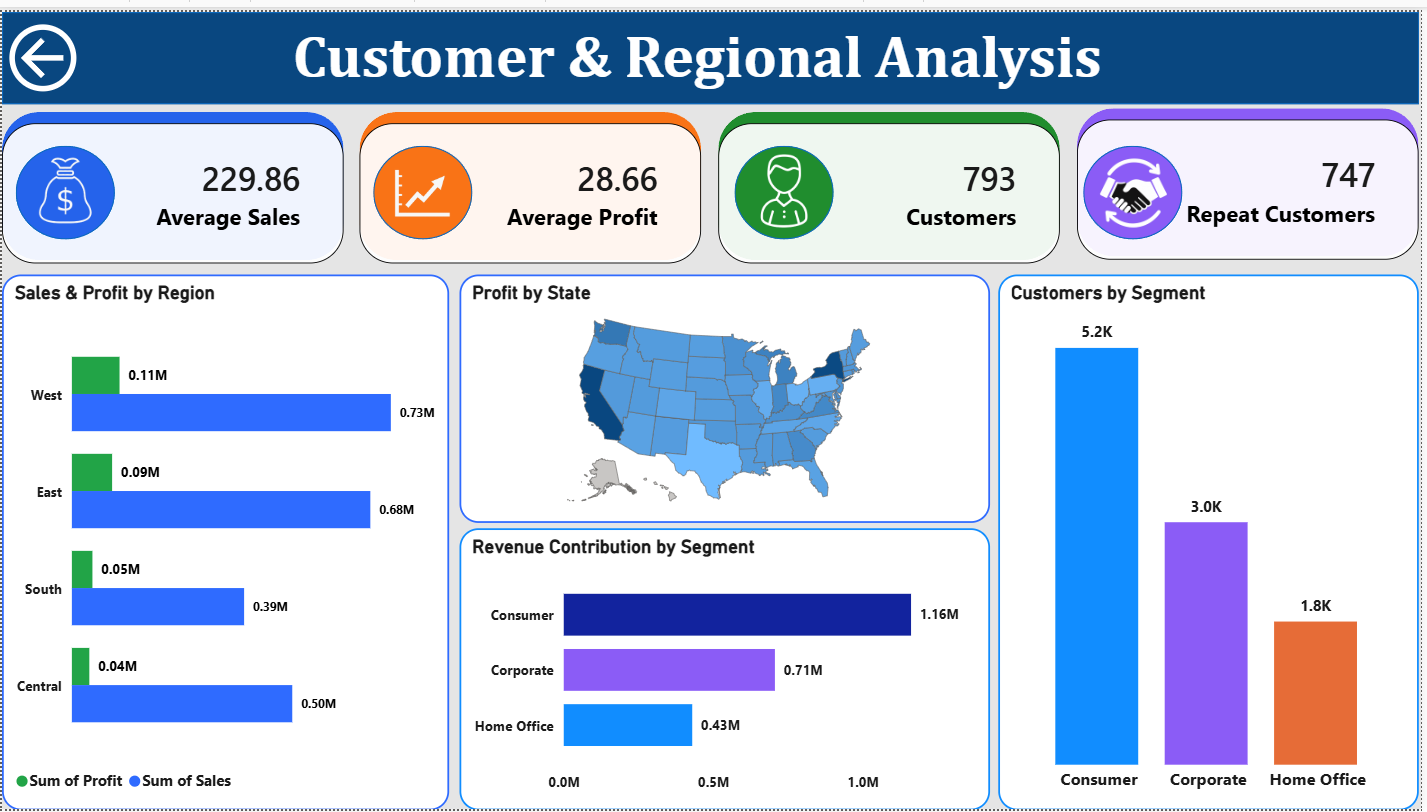

The page's visual inventory and layout, read from the dashboard file:
{"tool":"powerbi","page":{"name":"Customer & Regional Analysis","canvas":[1280,720],"ordinal":1},"visuals":[{"type":"shape","title":"Customer & Regional Analysis","box":[0,0,1277.9,83.2],"z":0},{"type":"shape","box":[969.8,86.8,308,133.6],"z":0,"group":"g2"},{"type":"group","id":"g1","title":"card1","box":[0,89.7,308,136.5],"z":0,"group":"g5"},{"type":"shape","box":[0,89.7,308,133.6],"z":0,"group":"g1"},{"type":"shape","box":[322.1,89.7,308,133.6],"z":0,"group":"g3"},{"type":"shape","box":[646,89.7,308,133.6],"z":0,"group":"g4"},{"type":"shape","box":[12.4,120.4,89.4,84.4],"z":0,"group":"g6"},{"type":"group","id":"g2","title":"card2","box":[969.8,86.8,308,136.5],"z":1000,"group":"g5"},{"type":"cardVisual","fields":{"Data":["_measure.Repeat Customers"]},"box":[969.8,97,308,126.3],"z":1000,"group":"g2"},{"type":"cardVisual","fields":{"Data":["Avg(Orders.Sales)"]},"box":[0,99.9,308,126.3],"z":1000,"group":"g1"},{"type":"cardVisual","fields":{"Data":["Avg(Orders.Profit)"]},"box":[322.1,99.9,308,126.3],"z":1000,"group":"g3"},{"type":"cardVisual","fields":{"Data":["_measure.Total Customers"]},"box":[646,99.9,308,126.3],"z":1000,"group":"g4"},{"type":"shape","box":[333.9,120.4,89.4,84.4],"z":1000,"group":"g6"},{"type":"shapeMap","title":"Profit by State","fields":{"Category":["Orders.State"],"Value":["Sum(Orders.Profit)"]},"box":[412.1,237.2,478.1,223.8],"z":1000},{"type":"group","id":"g3","title":"card3","box":[322.1,89.7,308,136.5],"z":2000,"group":"g5"},{"type":"shape","box":[660.3,120.4,89.4,84.4],"z":2000,"group":"g6"},{"type":"clusteredBarChart","title":"Sales & Profit by Region","fields":{"Category":["Orders.Region"],"Y":["Sum(Orders.Profit)","Sum(Orders.Sales)"]},"box":[0,237.2,403.5,483],"z":2000},{"type":"group","id":"g4","title":"card5","box":[646,89.7,308,136.5],"z":3000,"group":"g5"},{"type":"shape","box":[974.4,120.4,89.4,84.4],"z":3000,"group":"g6"},{"type":"clusteredColumnChart","title":"Customers by Segment","fields":{"Category":["Orders.Segment"],"Y":["CountNonNull(Orders.Customer ID)"]},"box":[898.8,237.2,379.1,483],"z":3000},{"type":"image","box":[7.4,114.2,98.1,91.9],"z":4000,"group":"g6"},{"type":"barChart","title":"Revenue Contribution by Segment","fields":{"Category":["Orders.Segment"],"Y":["Sum(Orders.Sales)"]},"box":[412.1,465.9,478.1,254.3],"z":4000},{"type":"actionButton","box":[0,4.2,101.6,73.7],"z":5000},{"type":"image","box":[341.3,126.6,75.7,72],"z":5000,"group":"g6"},{"type":"textbox","box":[243.3,3.7,766.7,73.4],"z":6000},{"type":"image","box":[661.6,117.9,86.9,85.6],"z":6000,"group":"g6"},{"type":"image","box":[935.5,111.3,169.2,104.1],"z":7000,"group":"g6"},{"type":"group","id":"g5","title":"Card_group","box":[0,86.8,1277.9,139.4],"z":10000,"group":"g7"},{"type":"group","id":"g6","title":"Card_logo","box":[7.4,111.3,1097.3,104.1],"z":11000,"group":"g7"},{"type":"group","id":"g7","title":"Cards","box":[0,86.8,1277.9,139.4],"z":11001}]}

Visuals, with their boxes in screenshot pixels (x1, y1, x2, y2), scaled from the page's 1280x720 canvas onto the 1427x812 screenshot:
"Customer & Regional Analysis" shape: (0,0,1425,94)
shape: (1081,98,1425,249)
"card1" group: (0,101,343,255)
shape: (0,101,343,252)
shape: (359,101,702,252)
shape: (720,101,1064,252)
shape: (14,136,113,231)
"card2" group: (1081,98,1425,252)
cardVisual - _measure.Repeat Customers: (1081,109,1425,252)
cardVisual - Avg(Orders.Sales): (0,113,343,255)
cardVisual - Avg(Orders.Profit): (359,113,702,255)
cardVisual - _measure.Total Customers: (720,113,1064,255)
shape: (372,136,472,231)
"Profit by State" shapeMap: (459,268,992,520)
"card3" group: (359,101,702,255)
shape: (736,136,836,231)
"Sales & Profit by Region" clusteredBarChart: (0,268,450,811)
"card5" group: (720,101,1064,255)
shape: (1086,136,1186,231)
"Customers by Segment" clusteredColumnChart: (1002,268,1425,811)
image: (8,129,118,232)
"Revenue Contribution by Segment" barChart: (459,525,992,811)
actionButton: (0,5,113,88)
image: (380,143,465,224)
textbox: (271,4,1126,87)
image: (738,133,834,230)
image: (1043,126,1232,243)
"Card_group" group: (0,98,1425,255)
"Card_logo" group: (8,126,1232,243)
"Cards" group: (0,98,1425,255)
